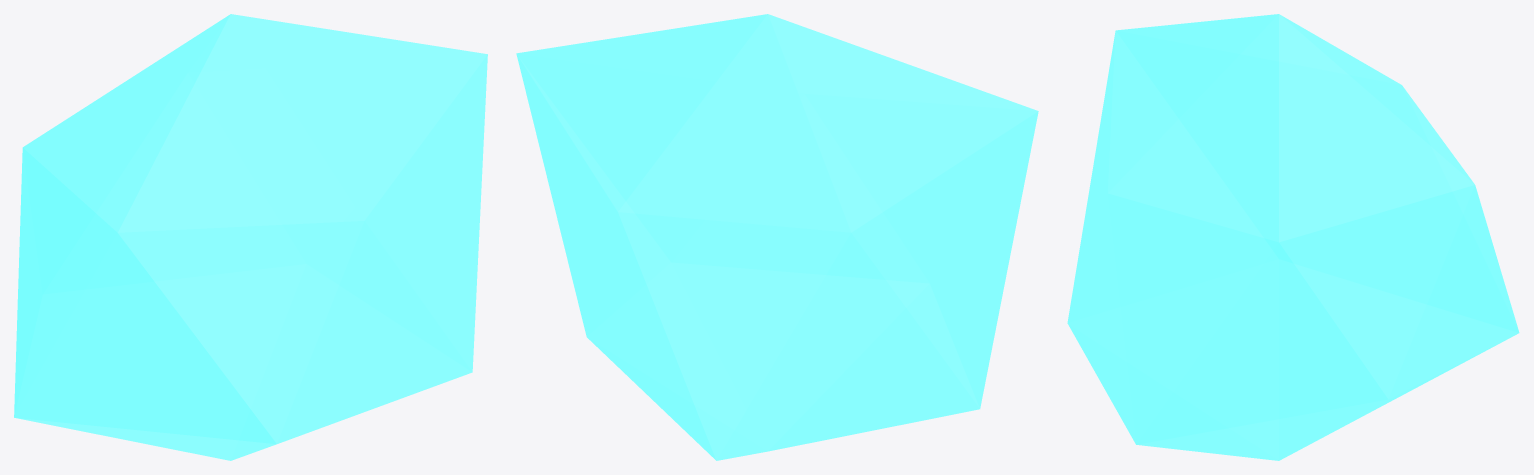
File: magnetic_crystal.glb
3 renders of one model, left to right at view 1: azimuth 30°, elevation 25°; view 2: azimuth 150°, elevation 25°; view 3: azimuth 270°, elevation 25°, orthographic. The views are drawn at different scales.
Parts seen in each view (by area): view 1: magnetic_crystal; view 2: magnetic_crystal; view 3: magnetic_crystal.
Boxes of the visible parts, x1=… form: magnetic_crystal: x1=14, y1=14, x2=487, y2=460; magnetic_crystal: x1=516, y1=14, x2=1038, y2=460; magnetic_crystal: x1=1067, y1=14, x2=1519, y2=460.
Size of the model in its own units: 0.4525 by 0.4079 by 0.3739.
